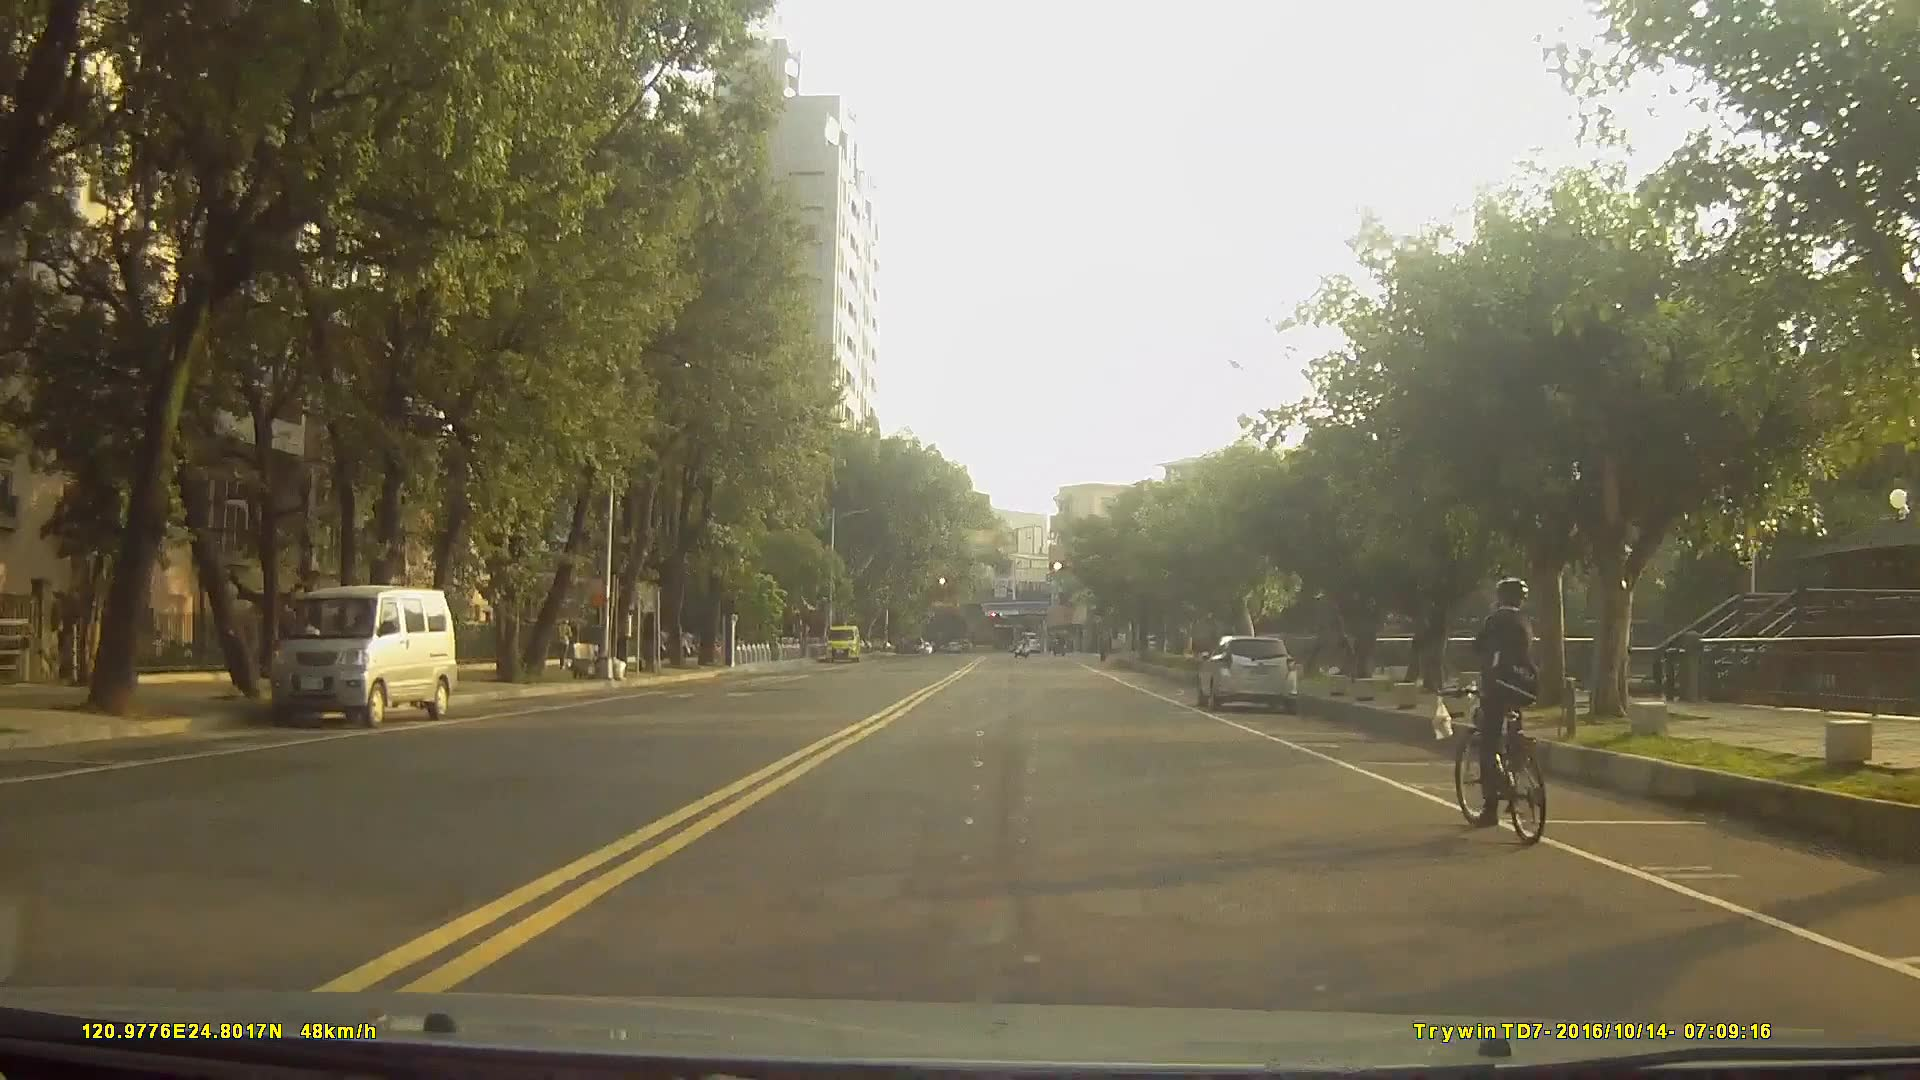rider: (1451, 577, 1553, 846)
vehicle: (262, 582, 459, 730), (1198, 633, 1300, 713), (1014, 629, 1041, 654)
